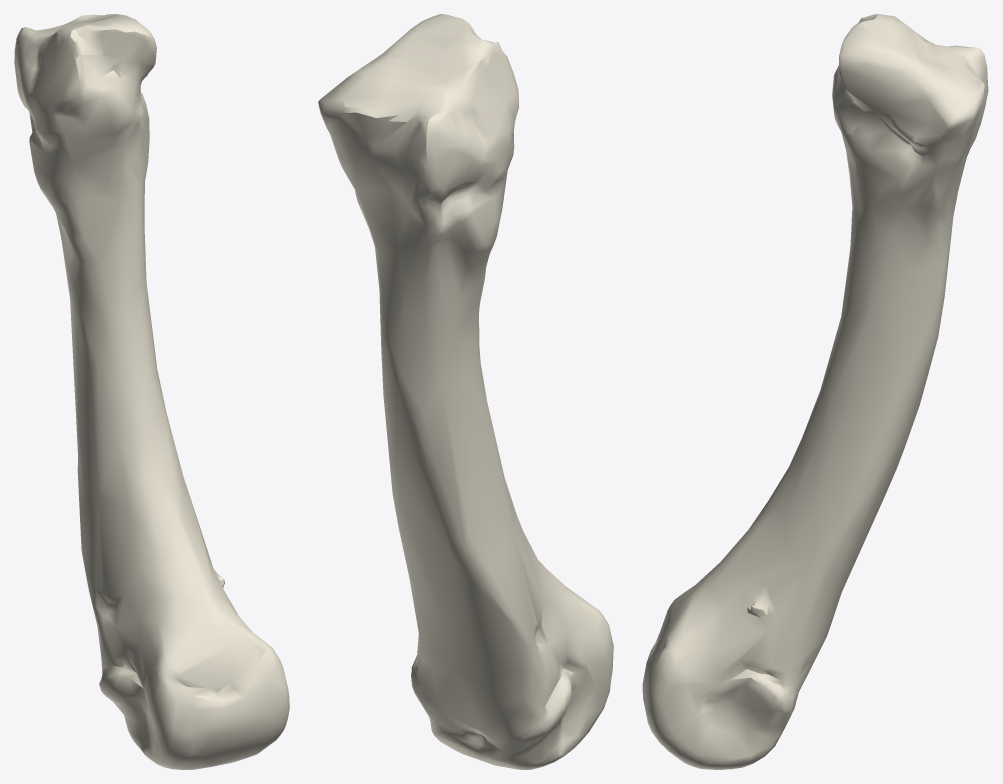
File: fma24470.glb
3 views of the same model, side by side, from view 1: azimuth 30°, elevation 25°; view 2: azimuth 150°, elevation 25°; view 3: azimuth 270°, elevation 25° (orthographic). The views are drawn at different scales.
Parts seen in each view (by area): view 1: FMA24470; view 2: FMA24470; view 3: FMA24470.
Boxes of the visible parts, x1,y1,x2,y2 form: FMA24470: (14,14,289,769); FMA24470: (318,14,613,769); FMA24470: (642,14,988,769).
Bounding box in the file's own units: 0.0127 × 0.0601 × 0.0263.
